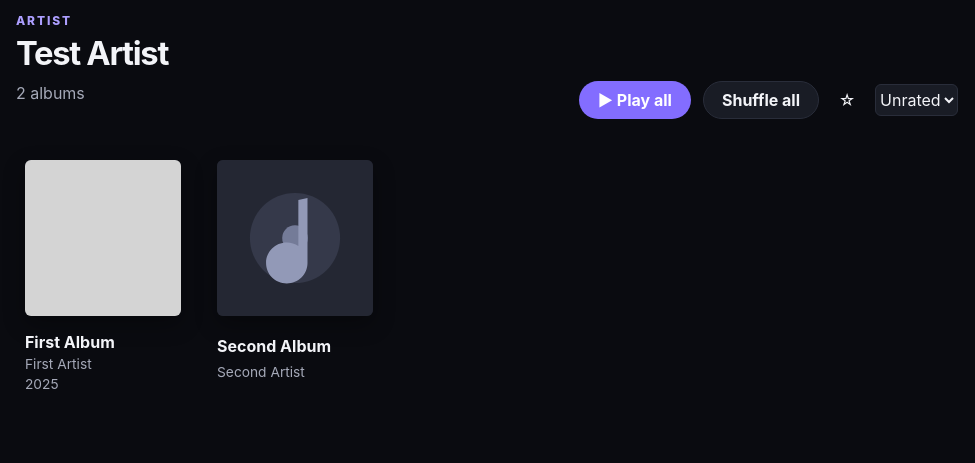
Scenario: ArtistPage playback actions › reports an artist with albums but no playable tracks
Click the button "▶ Play all".
click(635, 100)  # box [579,81,691,119]
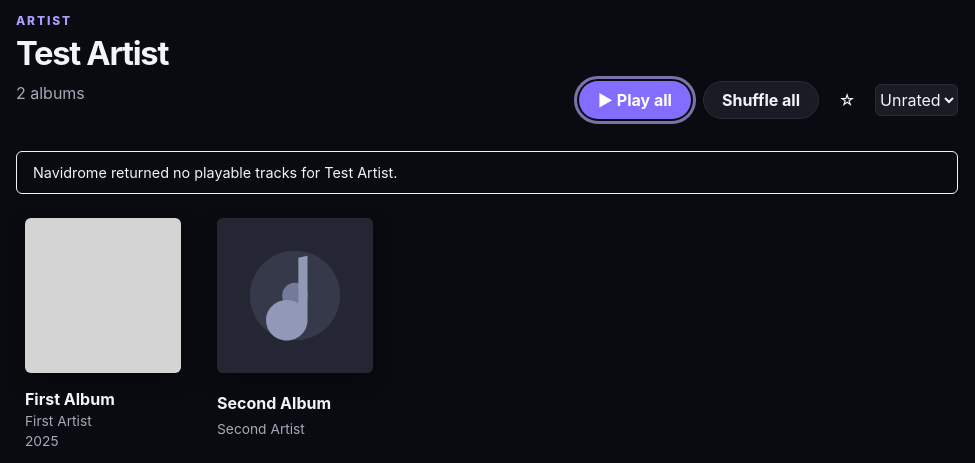
Expected: the message reads "Navidrome returned no playable tracks for Test Artist.", [16,151,958,194]
